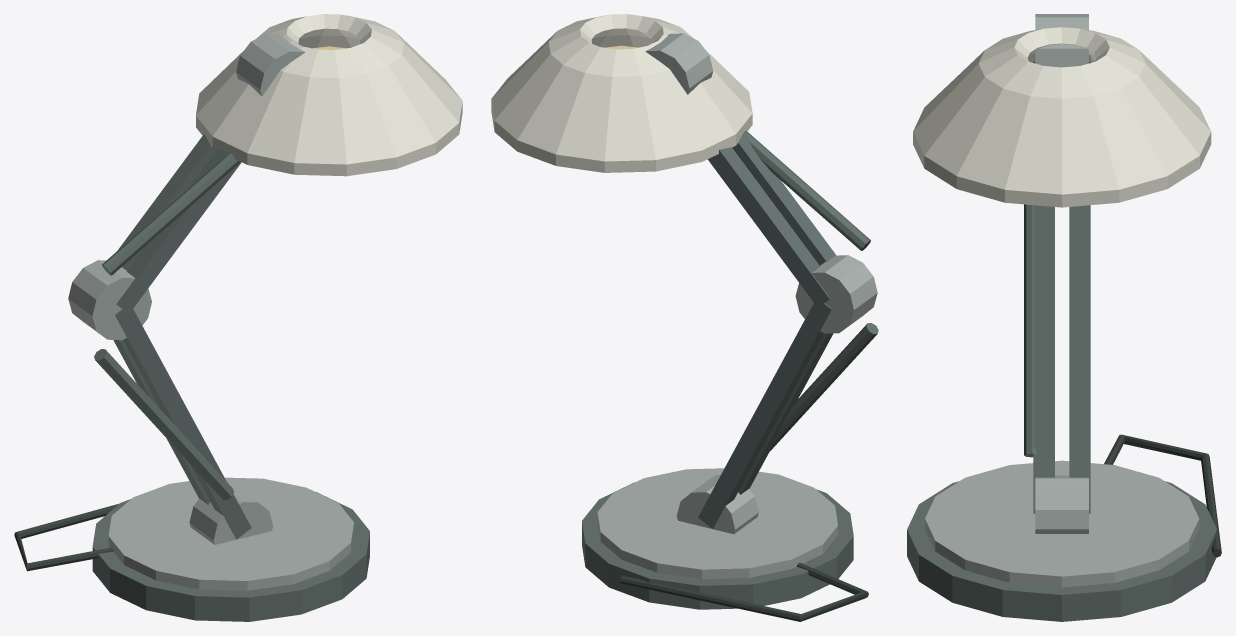
Rendered from tasklamp.glb.
3 renders of one model, left to right at view 1: azimuth 30°, elevation 25°; view 2: azimuth 150°, elevation 25°; view 3: azimuth 270°, elevation 25°, orthographic. The views are drawn at different scales.
Visible parts, largest first — view 1: tasklamp/shade, tasklamp/base-top, tasklamp/weighted-base, tasklamp/arm-0--0.015, tasklamp/joint-1, tasklamp/arm-1--0.015, tasklamp/spring-0, tasklamp/spring-1, tasklamp/joint-2, tasklamp/joint-0, tasklamp/arm-1-0.015, tasklamp/power-lead (+1 smaller); view 2: tasklamp/shade, tasklamp/base-top, tasklamp/weighted-base, tasklamp/arm-0-0.015, tasklamp/arm-1-0.015, tasklamp/joint-1, tasklamp/arm-1--0.015, tasklamp/power-lead, tasklamp/spring-1, tasklamp/joint-2, tasklamp/joint-0, tasklamp/spring-0 (+1 smaller); view 3: tasklamp/shade, tasklamp/base-top, tasklamp/weighted-base, tasklamp/arm-0--0.015, tasklamp/arm-0-0.015, tasklamp/joint-0, tasklamp/spring-0, tasklamp/joint-2, tasklamp/power-lead.
Boxes of the visible parts, box(x1,y1,x2,y2) form: tasklamp/shade: box(196, 14, 462, 176); tasklamp/base-top: box(108, 477, 353, 590); tasklamp/weighted-base: box(92, 492, 369, 621); tasklamp/arm-0--0.015: box(115, 304, 251, 539); tasklamp/joint-1: box(68, 260, 151, 340); tasklamp/arm-1--0.015: box(116, 150, 241, 313); tasklamp/spring-0: box(94, 349, 234, 499); tasklamp/spring-1: box(102, 153, 240, 275); tasklamp/joint-2: box(236, 33, 305, 96); tasklamp/joint-0: box(189, 484, 273, 544); tasklamp/arm-1-0.015: box(117, 134, 216, 270); tasklamp/power-lead: box(14, 504, 118, 571); tasklamp/shade: box(491, 14, 752, 172); tasklamp/base-top: box(597, 468, 837, 579); tasklamp/weighted-base: box(582, 482, 853, 609); tasklamp/arm-0-0.015: box(698, 298, 831, 528); tasklamp/arm-1-0.015: box(708, 147, 830, 304); tasklamp/joint-1: box(795, 255, 877, 333); tasklamp/arm-1--0.015: box(732, 131, 836, 265); tasklamp/power-lead: box(620, 563, 868, 621); tasklamp/spring-1: box(744, 130, 870, 250); tasklamp/joint-2: box(645, 33, 712, 94); tasklamp/joint-0: box(676, 475, 758, 534); tasklamp/spring-0: box(770, 323, 878, 450); tasklamp/shade: box(913, 27, 1211, 207); tasklamp/base-top: box(925, 460, 1199, 587); tasklamp/weighted-base: box(907, 481, 1216, 621); tasklamp/arm-0--0.015: box(1033, 205, 1054, 513); tasklamp/arm-0-0.015: box(1069, 205, 1090, 513); tasklamp/joint-0: box(1035, 475, 1088, 533); tasklamp/spring-0: box(1024, 204, 1037, 457); tasklamp/joint-2: box(1035, 14, 1088, 67); tasklamp/power-lead: box(1104, 434, 1221, 557).
Bounding box in the file's own units: 0.4226 × 0.522 × 0.264.
Materials: 5 (5 with a texture image).
